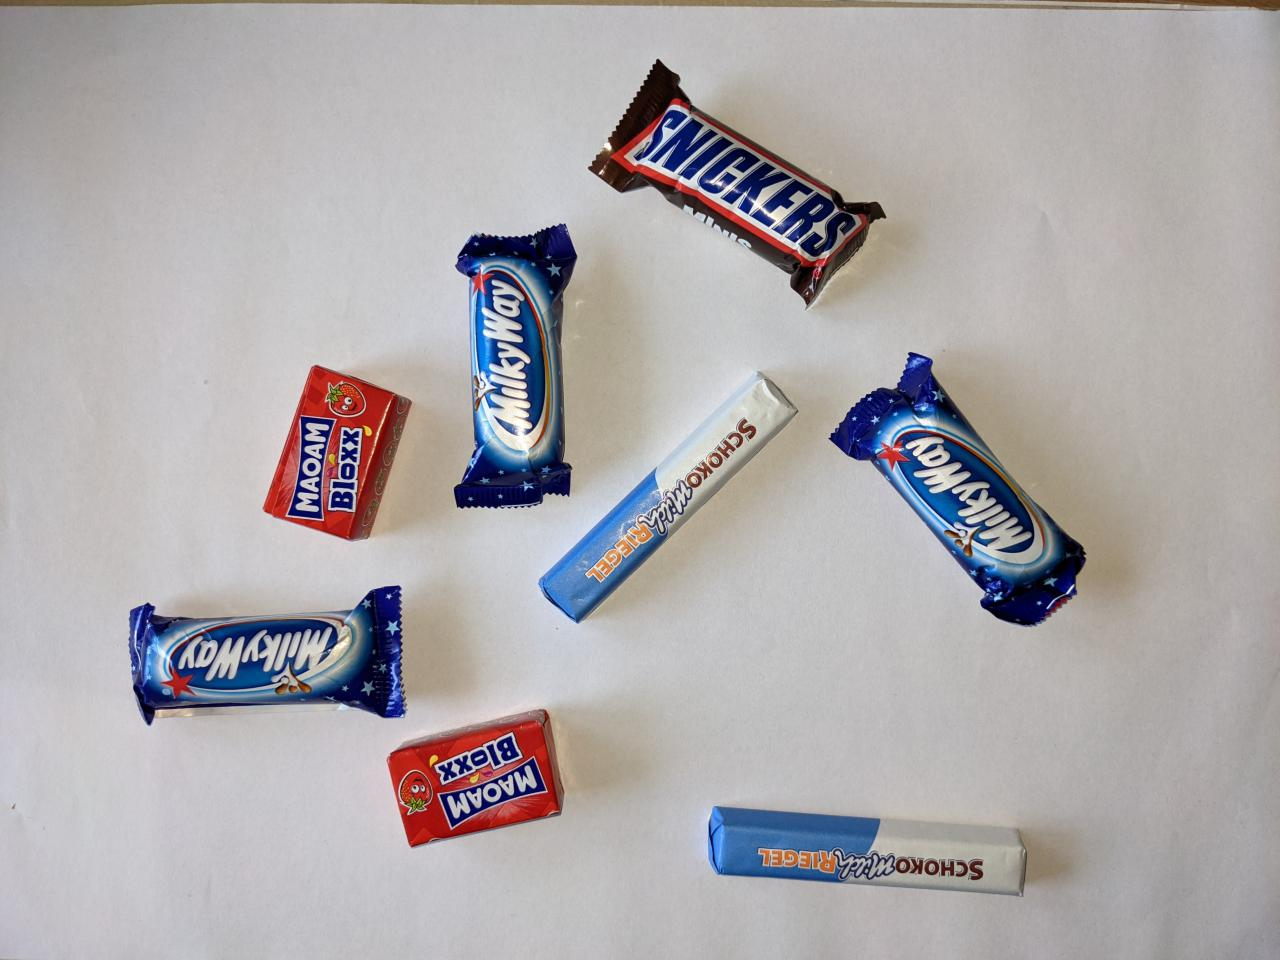MAOAM: (255, 357, 421, 548), (381, 704, 574, 856)
MilkyWay: (818, 341, 1094, 635), (114, 578, 419, 737), (444, 219, 584, 516)
Schokoriegel: (531, 363, 805, 631), (699, 801, 1039, 905)
Snickers: (577, 52, 896, 315)
